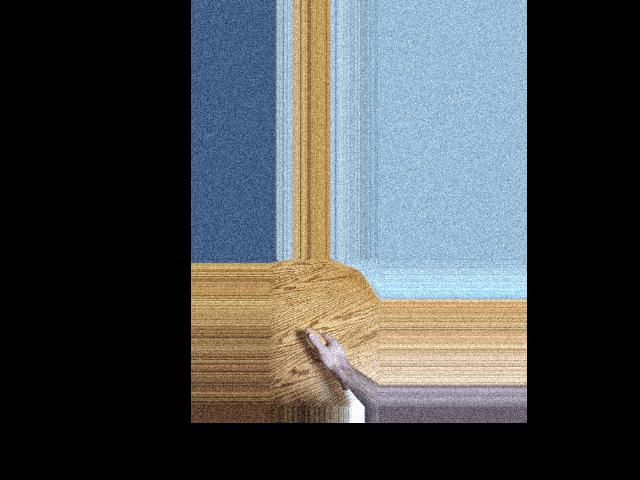sweet_potato: (304, 325, 348, 389)
